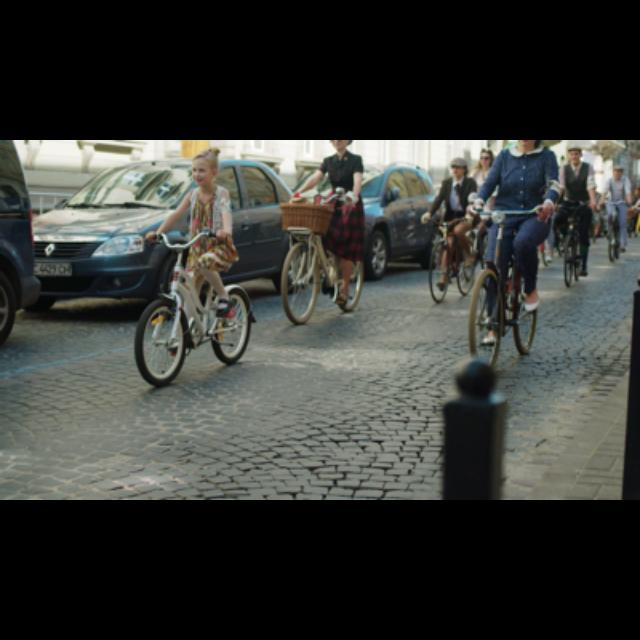Without Helmet: (188, 146, 222, 186)
